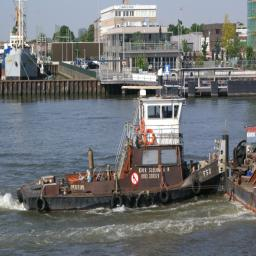tugboat: (16, 76, 235, 218)
